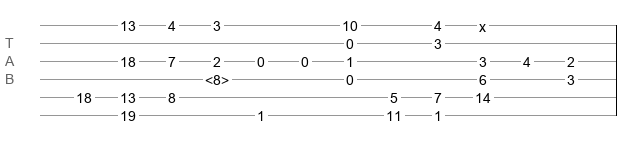0: (257, 54, 265, 64), (301, 54, 309, 64), (346, 36, 354, 46), (346, 72, 354, 82)
1: (257, 108, 265, 118), (346, 54, 354, 64), (434, 108, 442, 118)
10: (342, 18, 358, 28)
11: (386, 108, 402, 118)
13: (120, 90, 136, 100), (120, 18, 136, 28)
14: (475, 90, 491, 100)
18: (76, 90, 92, 100), (120, 54, 136, 64)
19: (120, 108, 136, 118)
2: (213, 54, 221, 64), (567, 54, 575, 64)
3: (213, 18, 221, 28), (434, 36, 442, 46), (479, 54, 487, 64), (567, 72, 575, 82)
4: (168, 18, 176, 28), (434, 18, 442, 28), (523, 54, 531, 64)
5: (390, 90, 398, 100)
6: (479, 72, 487, 82)
7: (168, 54, 176, 64), (434, 90, 442, 100)
8: (168, 90, 176, 100)
harmonic: (205, 72, 229, 82)
x: (479, 19, 486, 27)
